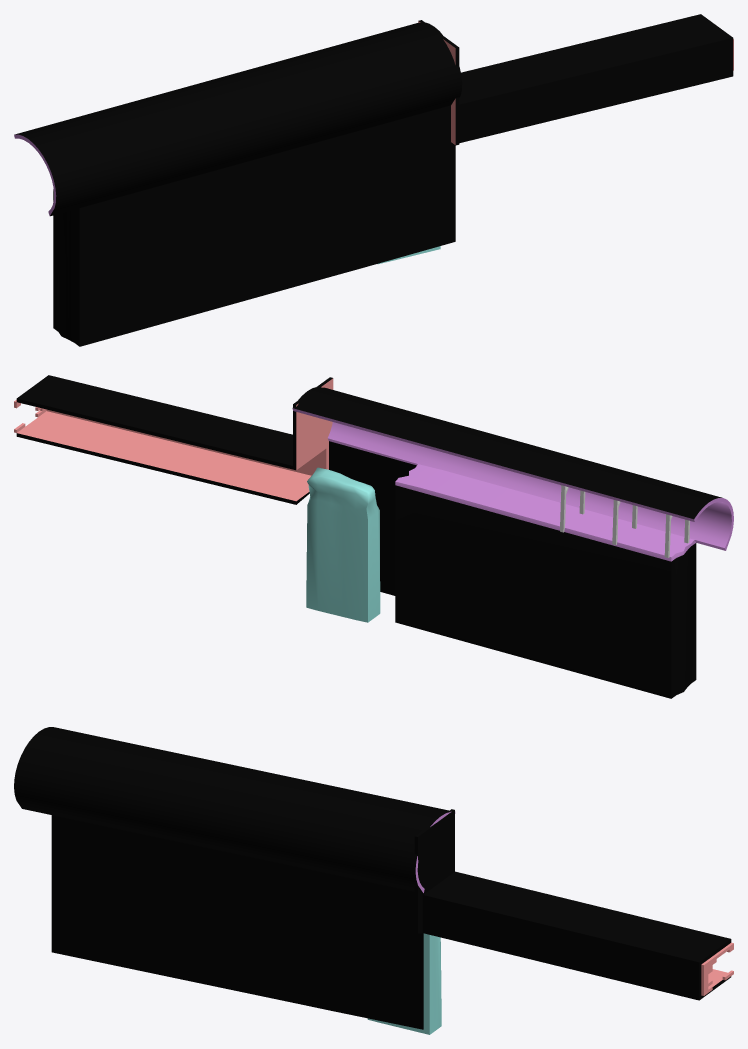
Rendered from salle7.fbx.
The picture shows the model from 3 angles, top to bottom: view 1: azimuth 30°, elevation 25°; view 2: azimuth 150°, elevation 25°; view 3: azimuth 330°, elevation 25°; orthographic projection.
Visible parts, largest first — view 1: Cylinder.008, Cylinder.005; view 2: Cylinder.008, Cylinder.005, Cube.018, Cube.022; view 3: Cylinder.008, Cylinder.005, Cube.018, Cylinder.006.
Boxes of the visible parts, x1,y1,x2,y2 form: Cylinder.008: (14,22,462,346); Cylinder.005: (418,14,733,145); Cylinder.008: (292,386,733,698); Cylinder.005: (16,375,333,504); Cube.018: (306,467,380,622); Cube.022: (560,485,689,557); Cylinder.008: (14,727,455,1029); Cylinder.005: (414,809,731,1000); Cube.018: (367,933,441,1034); Cylinder.006: (701,942,733,995).
Size of the model in its own units: 19845 by 5940 by 2060.
